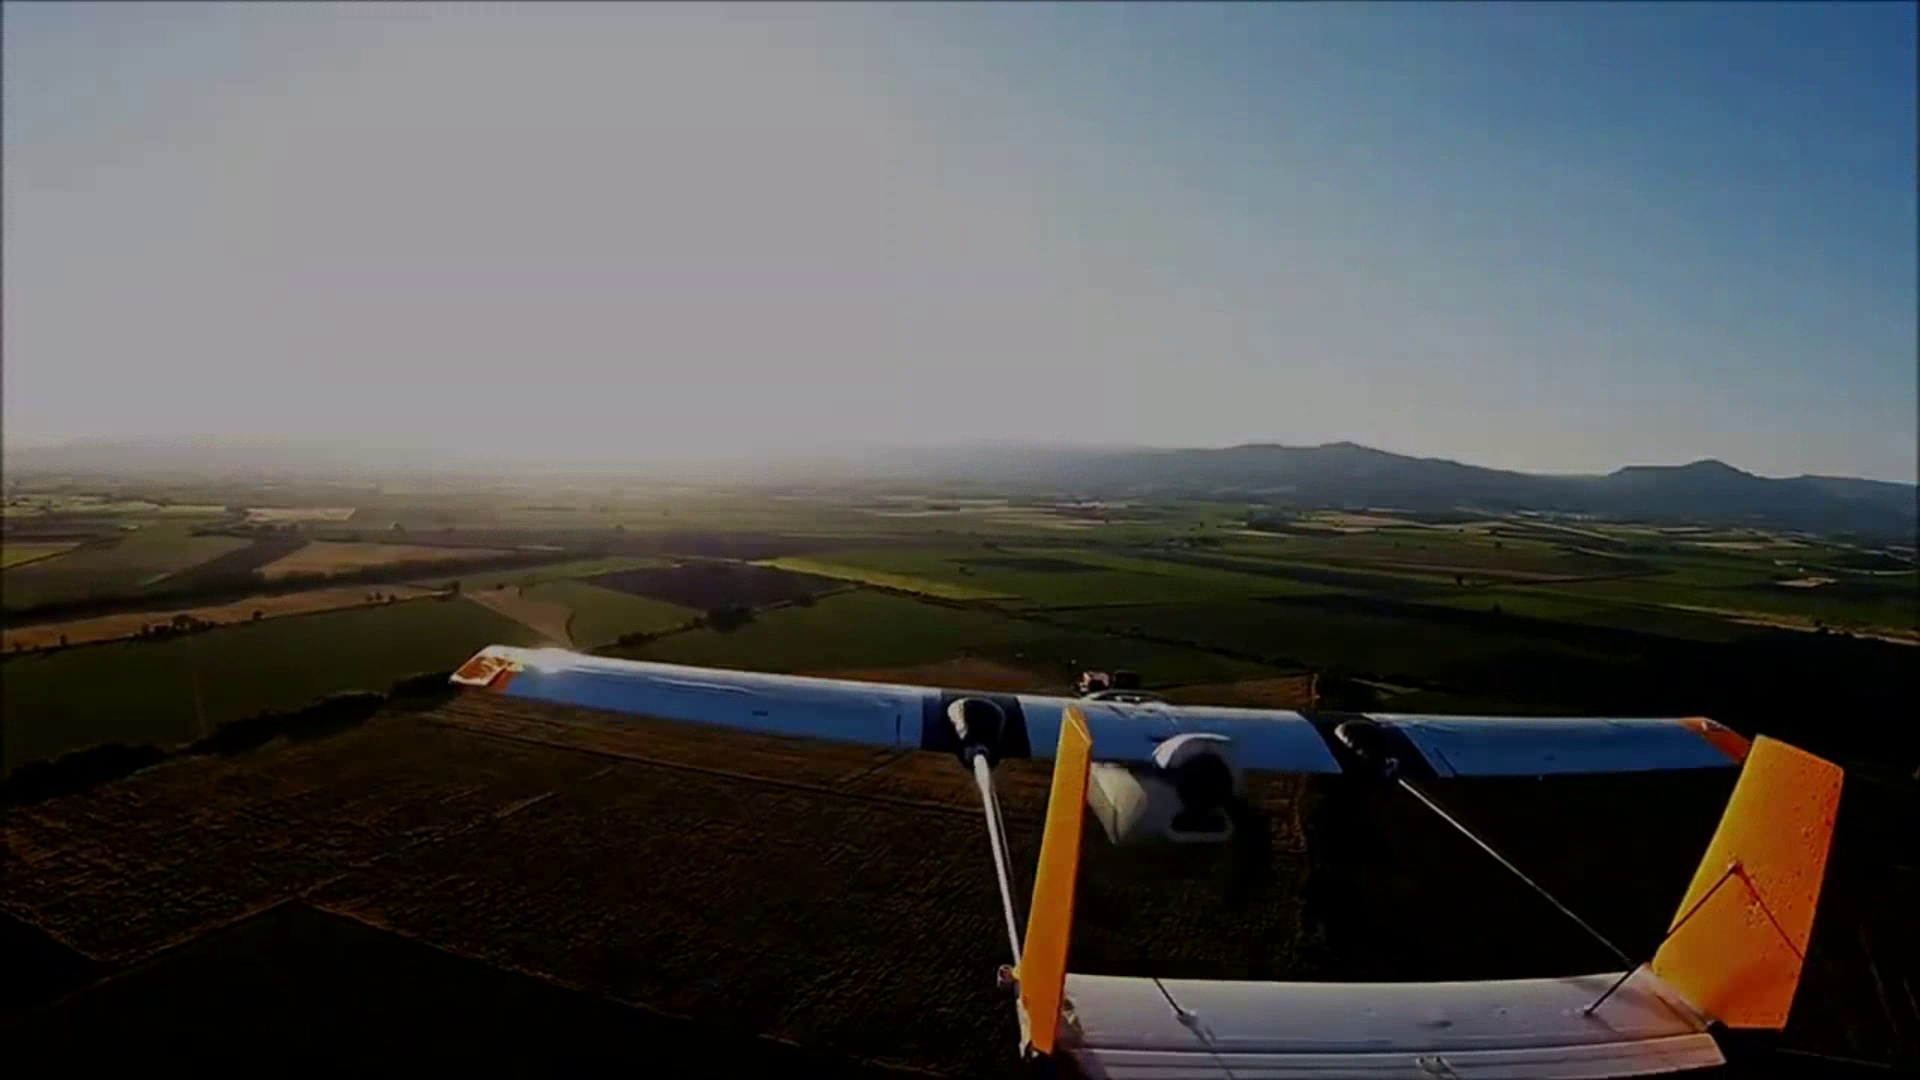airplane: (425, 644, 1890, 1066)
